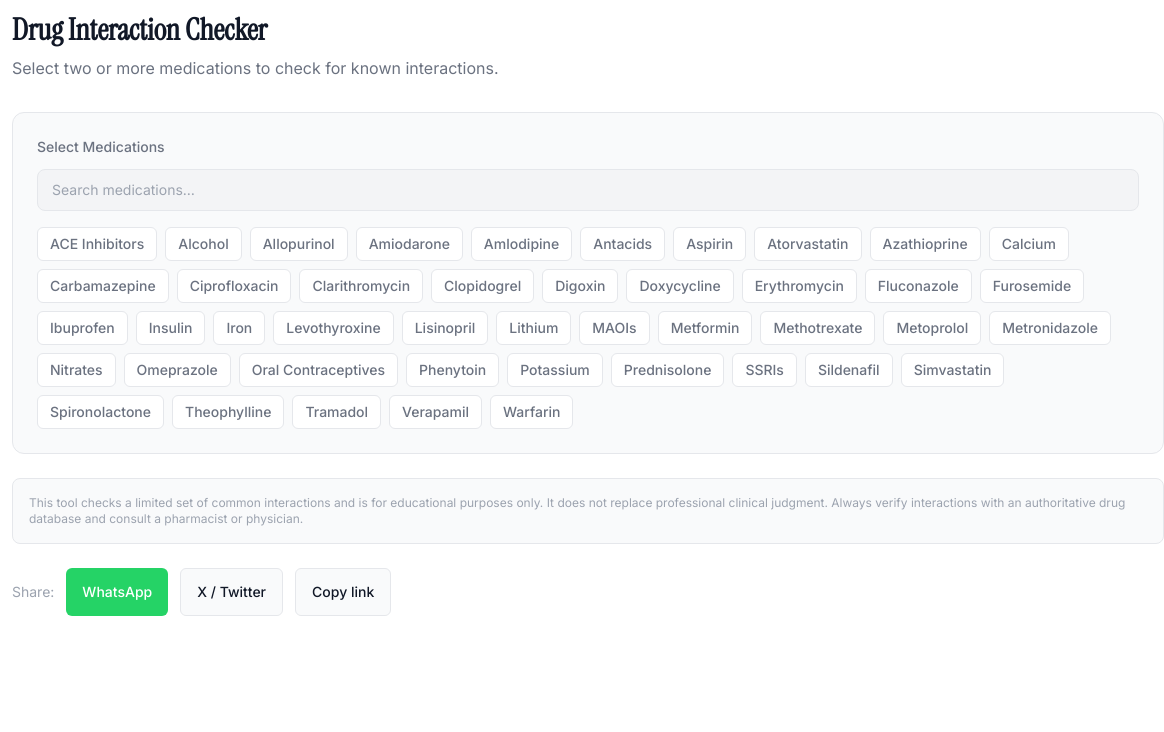
Test: DrugInteractionChecker › deselects a drug on second click
Click the button "Warfarin".
click(532, 412)  # box x1=490 y1=395 x2=573 y2=429
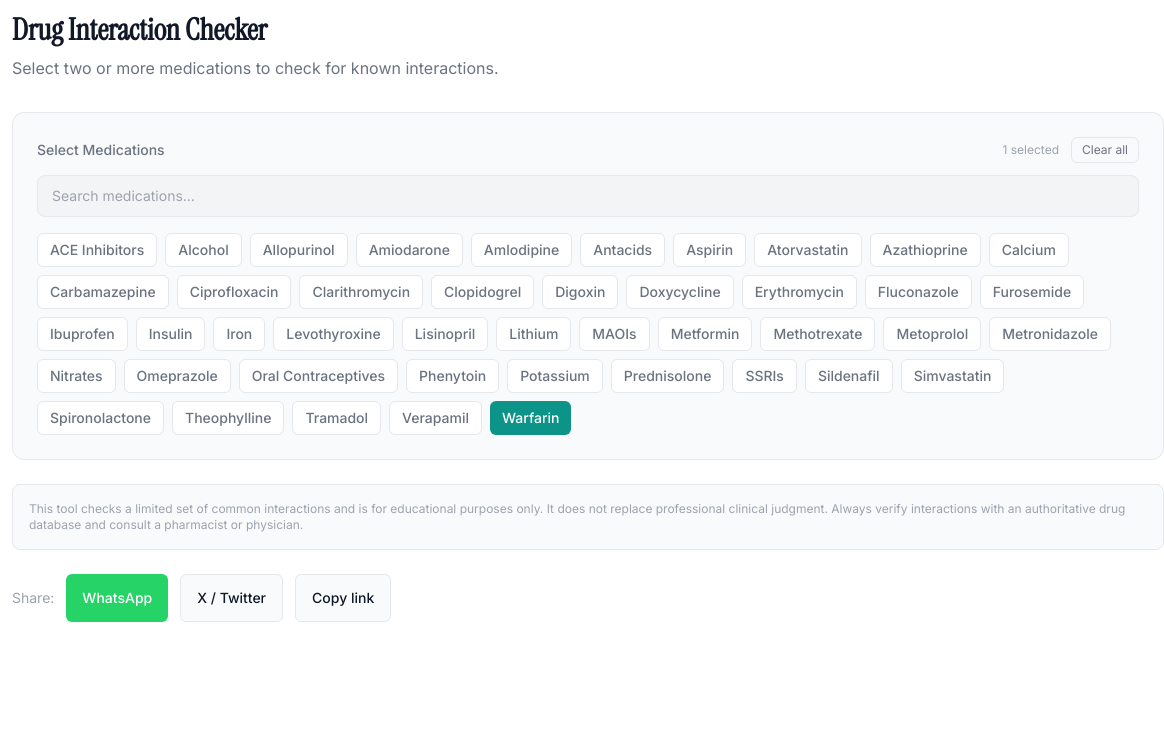
Click the button "Aspirin".
click(710, 250)  # box x1=673 y1=233 x2=746 y2=267
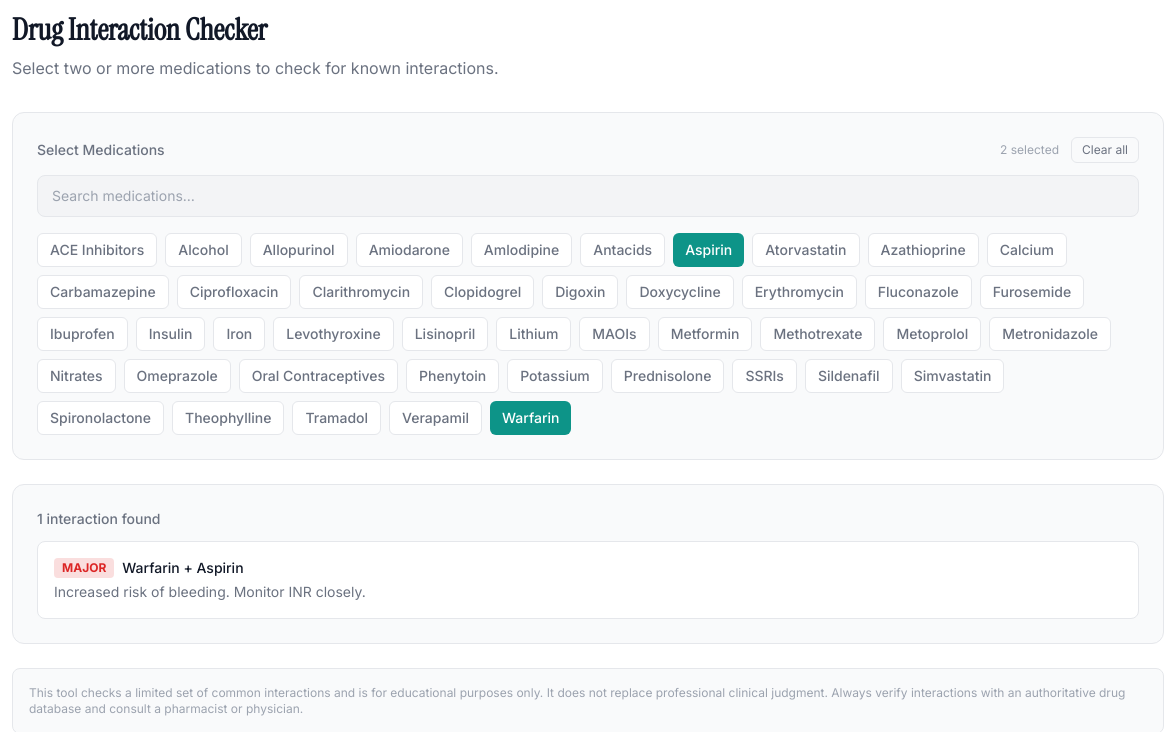
Expected: the heading "1 interaction found" is shown, x1=37 y1=510 x2=160 y2=527
Click the button "Aspirin".
click(709, 250)  # box x1=673 y1=233 x2=744 y2=267
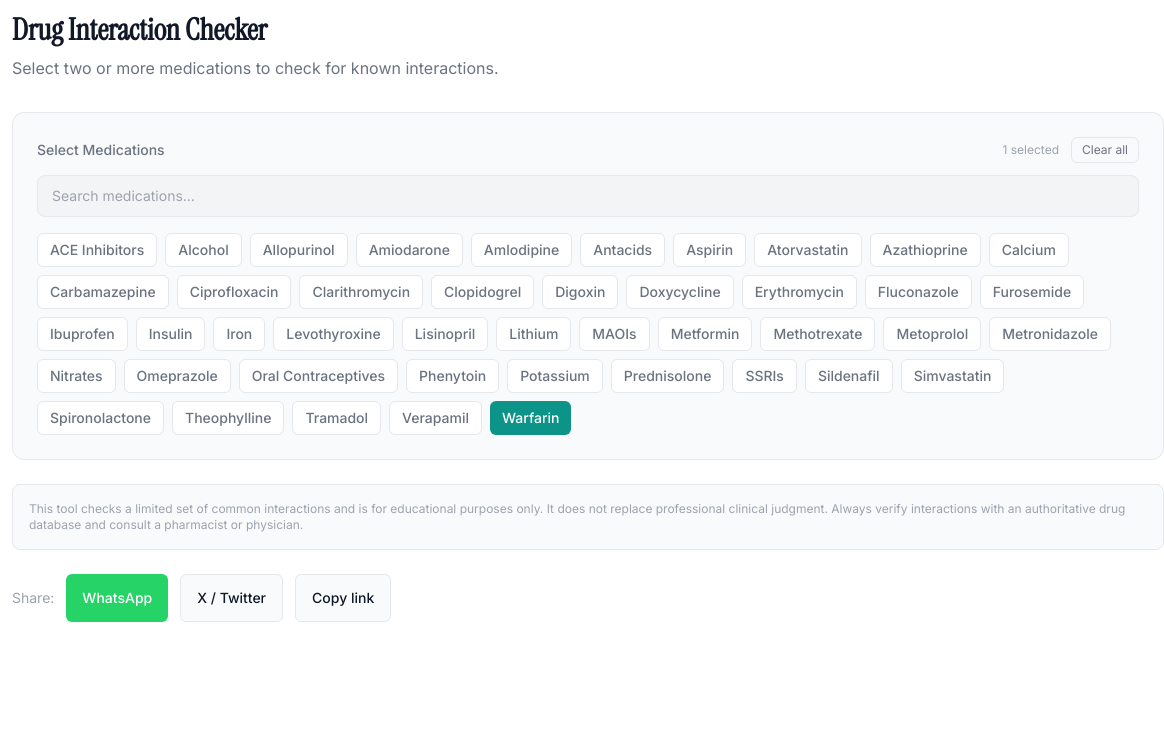
Expected: the heading "1 interaction found" is gone
